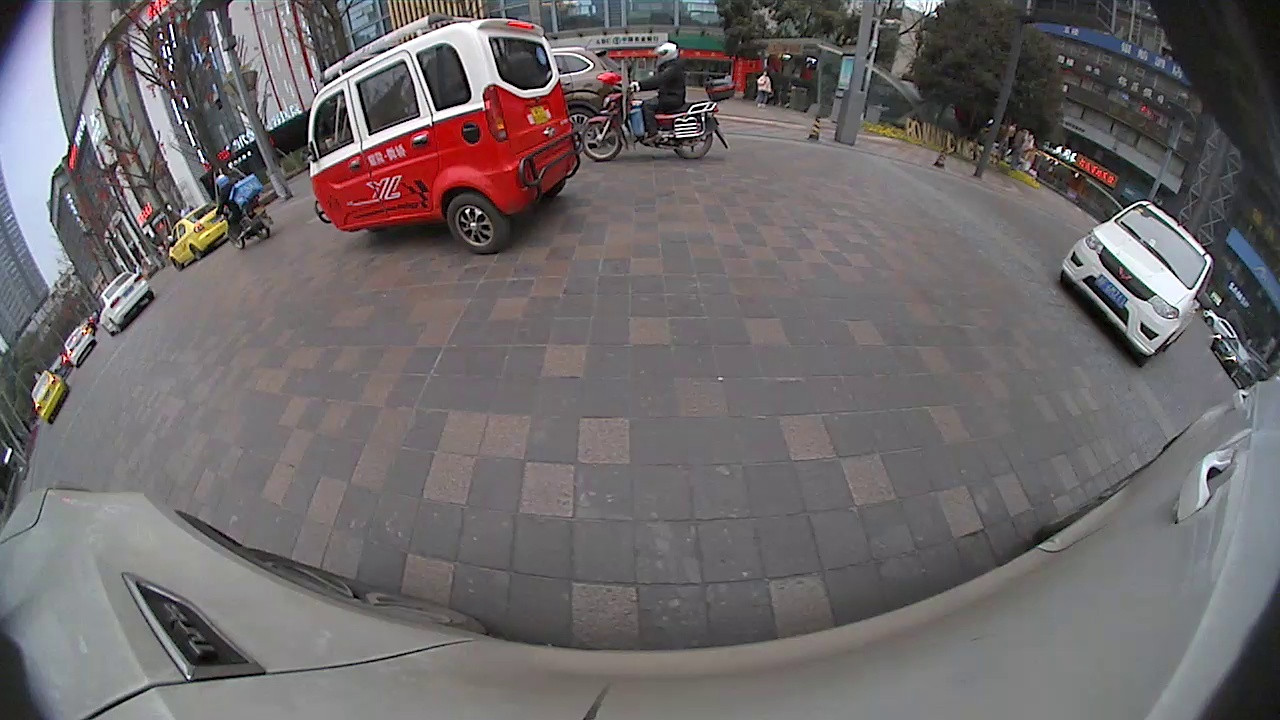car: (1058, 198, 1216, 368), (546, 44, 633, 155), (167, 201, 231, 272), (95, 269, 154, 337), (1212, 336, 1262, 392), (30, 371, 70, 425), (63, 322, 98, 368)
front: (578, 115, 626, 163)
person: (759, 70, 769, 110)
rear: (442, 189, 509, 257), (561, 107, 601, 154), (672, 125, 715, 162)
rider: (305, 10, 579, 257), (580, 40, 730, 163), (213, 172, 271, 252)
